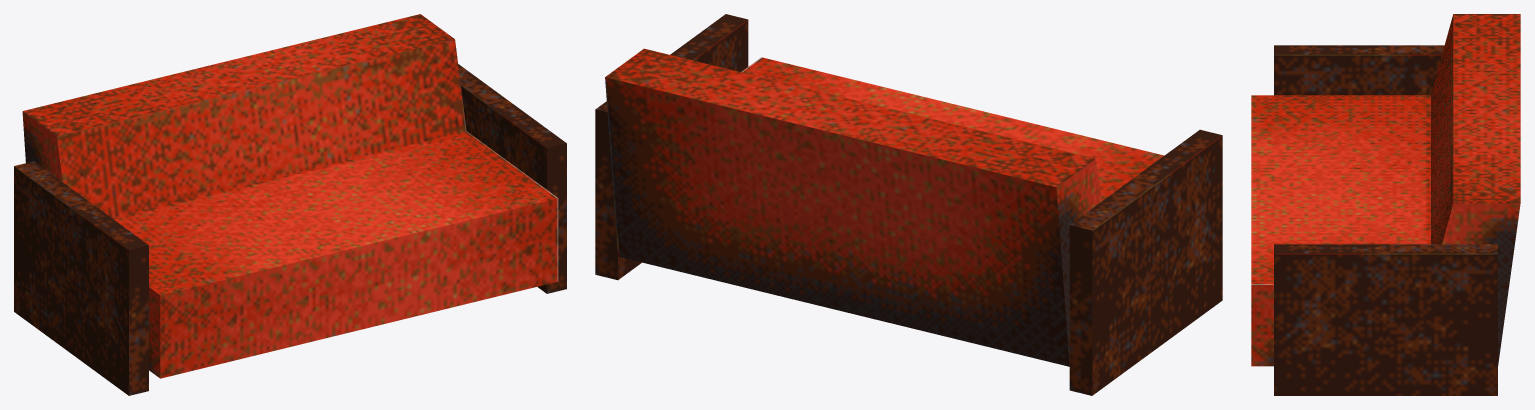
File: sofa.fbx
The picture shows the model from 3 angles, left to right: view 1: azimuth 30°, elevation 25°; view 2: azimuth 150°, elevation 25°; view 3: azimuth 270°, elevation 25°; orthographic projection. The views are drawn at different scales.
Visible parts, largest first — view 1: Sofa; view 2: Sofa; view 3: Sofa.
Boxes of the visible parts, x1=… form: Sofa: x1=14, y1=14, x2=566, y2=395; Sofa: x1=595, y1=14, x2=1222, y2=395; Sofa: x1=1251, y1=14, x2=1520, y2=395.
Bounding box in the file's own units: 220 × 90 × 120.
Materials: 1 (1 with a texture image).
